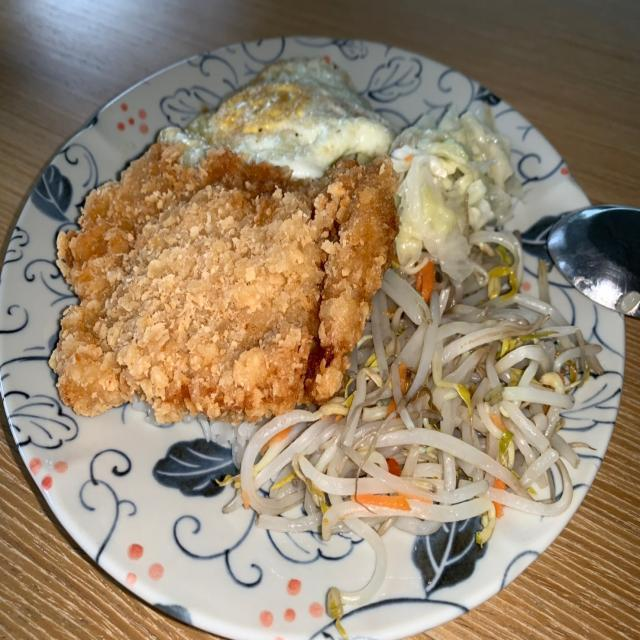chinese_cabbage: (396, 101, 524, 292)
fried_chicken: (45, 142, 394, 418)
fried_eggs: (166, 54, 395, 178)
mung_bean_sprouts: (280, 296, 587, 542)
